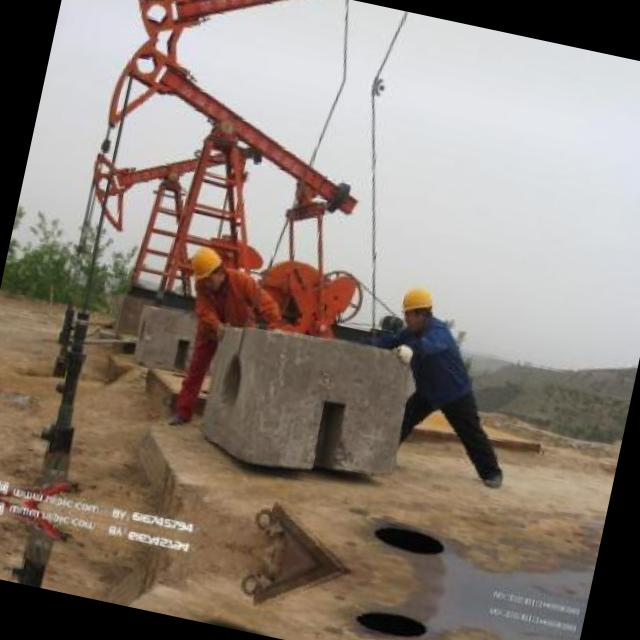helmet: (394, 277, 442, 335), (177, 239, 230, 288)
